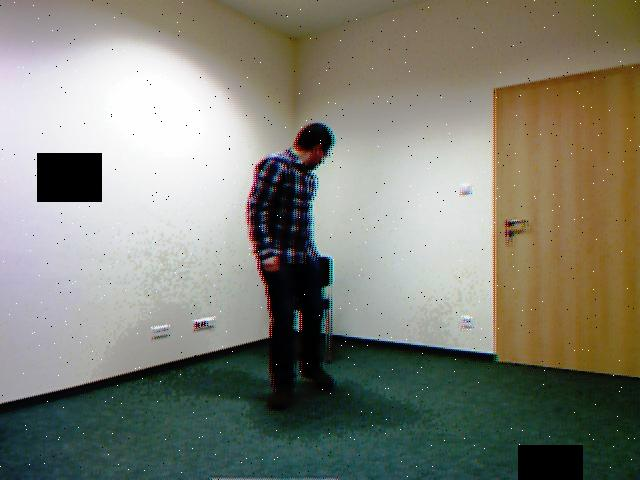walking: (239, 118, 355, 421)
